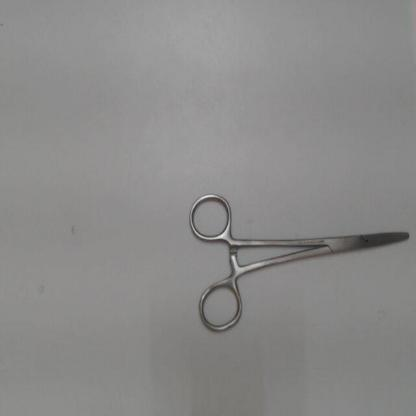Mayo Needle Holder: (182, 181, 415, 339)
